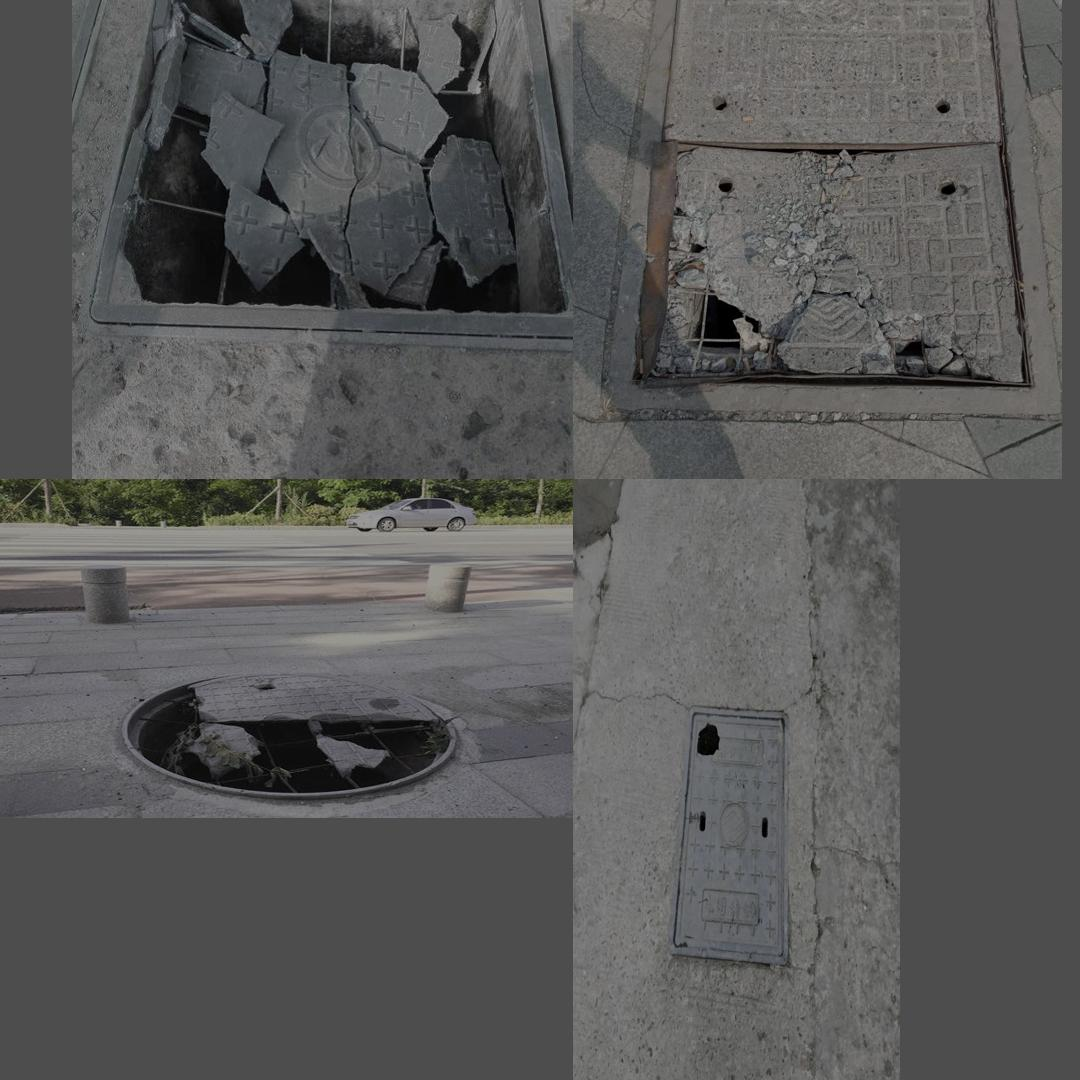broke: (604, 0, 1062, 412), (110, 0, 559, 354), (108, 648, 467, 809), (668, 704, 789, 963)
